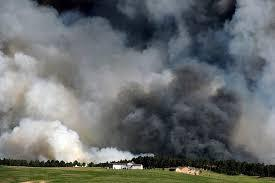yanwu: (1, 1, 273, 164)
